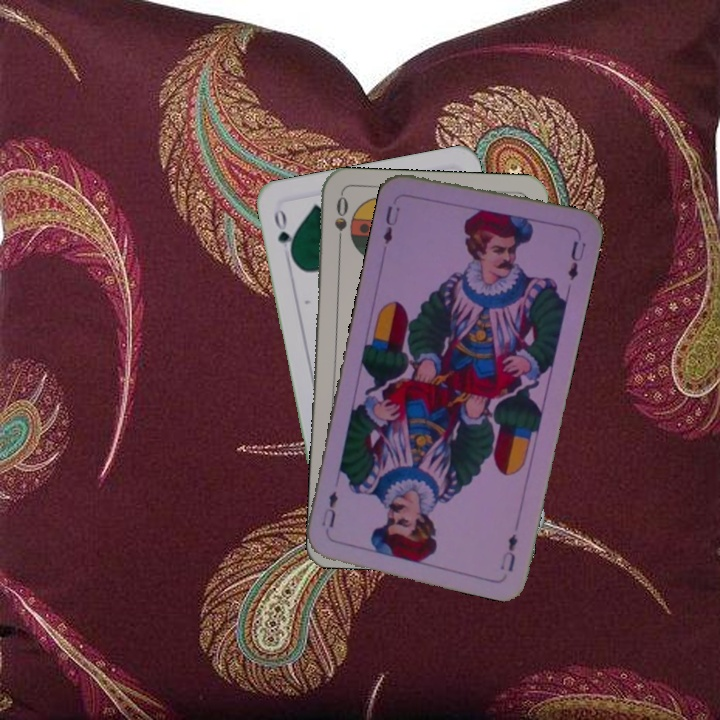EU: (379, 201, 403, 246), (496, 530, 520, 574)
GO: (270, 205, 297, 264)
SO: (331, 192, 351, 251)
